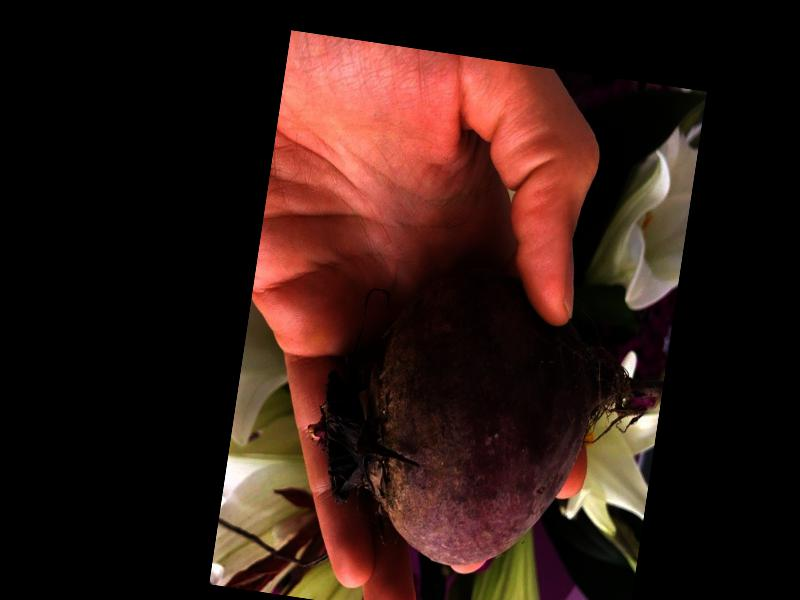Beet: (293, 247, 674, 593)
